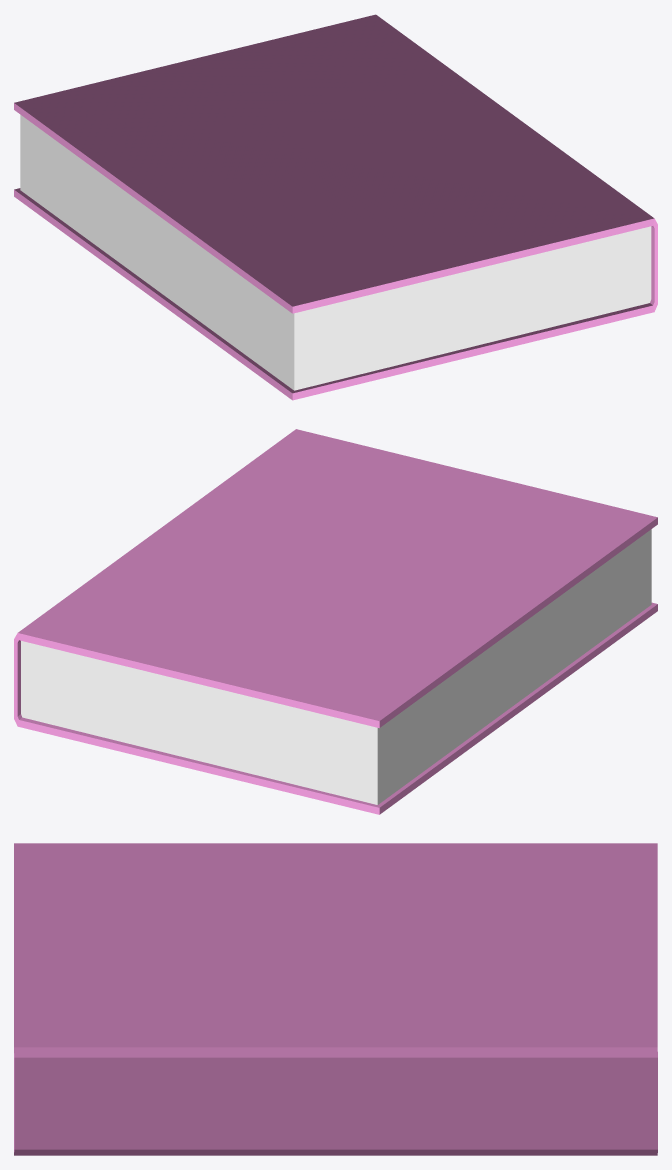
The model's file is Book 3.fbx.
3 views of the same model, one above another, from view 1: azimuth 30°, elevation 25°; view 2: azimuth 150°, elevation 25°; view 3: azimuth 270°, elevation 25° (orthographic). The views are drawn at different scales.
Parts seen in each view (by area): view 1: Node 0; view 2: Node 0; view 3: Node 0.
Boxes of the visible parts, x1,y1,x2,y2 form: Node 0: (14,14,657,400); Node 0: (14,429,657,814); Node 0: (14,843,657,1155).
Size of the model in its own units: 0.2303 by 0.0427 by 0.1744.
